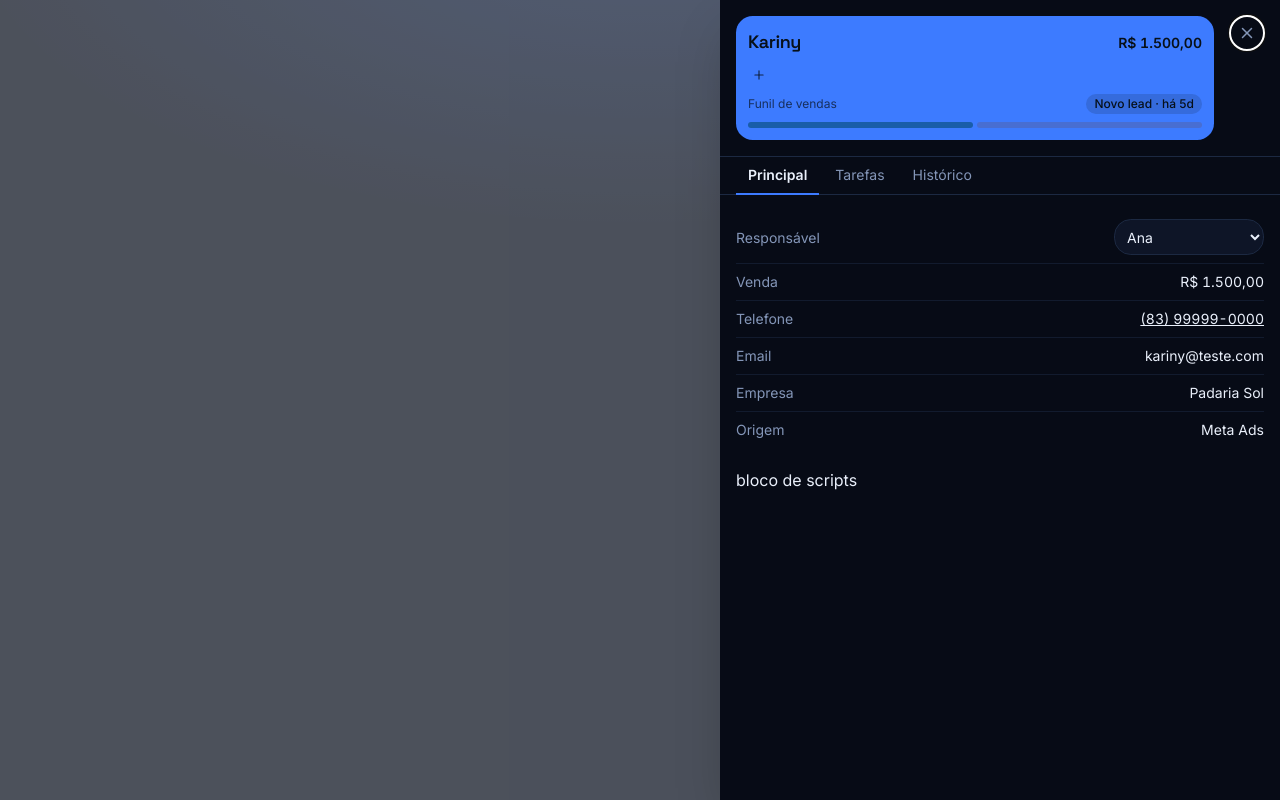
Test case: DrawerLead › aba Tarefas mostra o painel de tarefas do lead
Click the tab "Tarefas" at (860, 176), box [823,157,897,195]
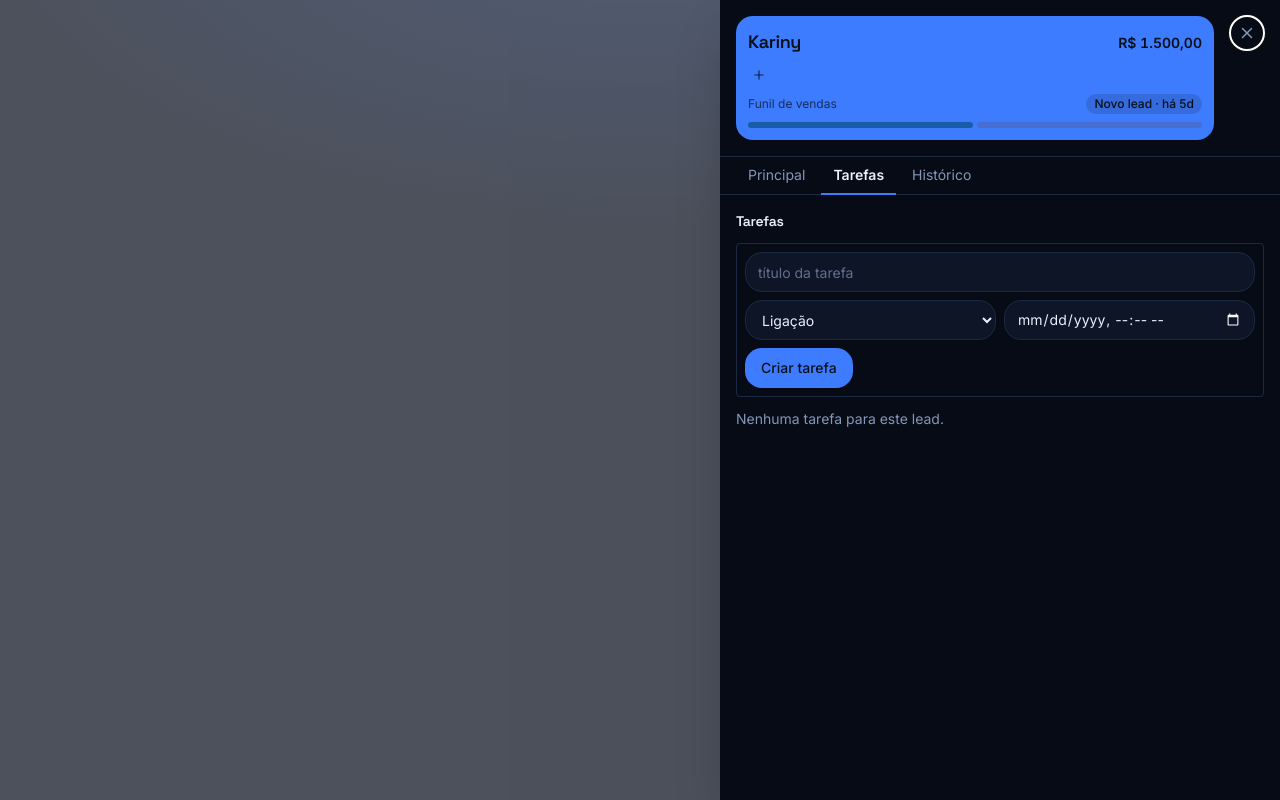
Now the field with placeholder "título da tarefa" is shown, box [745,252,1255,292]
